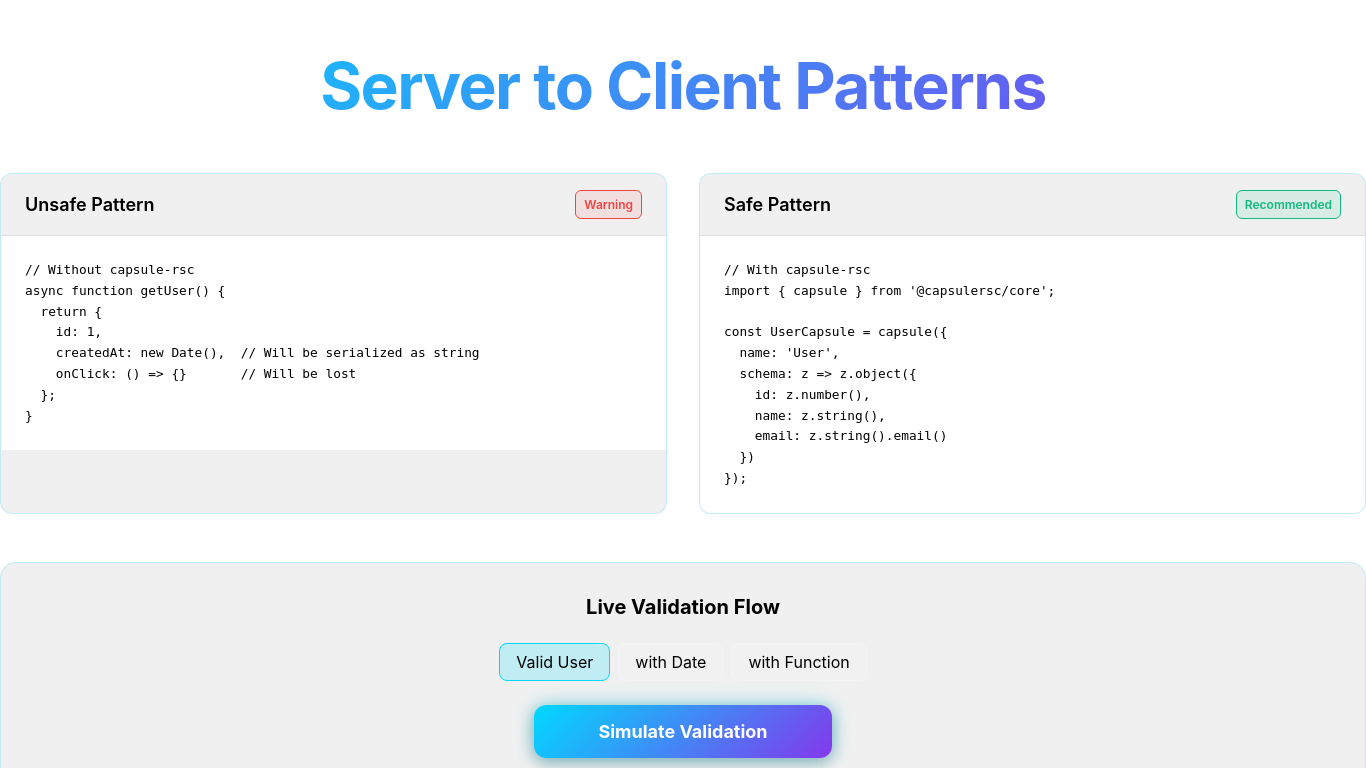
Test: ServerClientDemo › interactive validation flow › should show SerializationError when Function data is validated
Click the button "with Function".
click(799, 662)  # box [731,643,867,681]
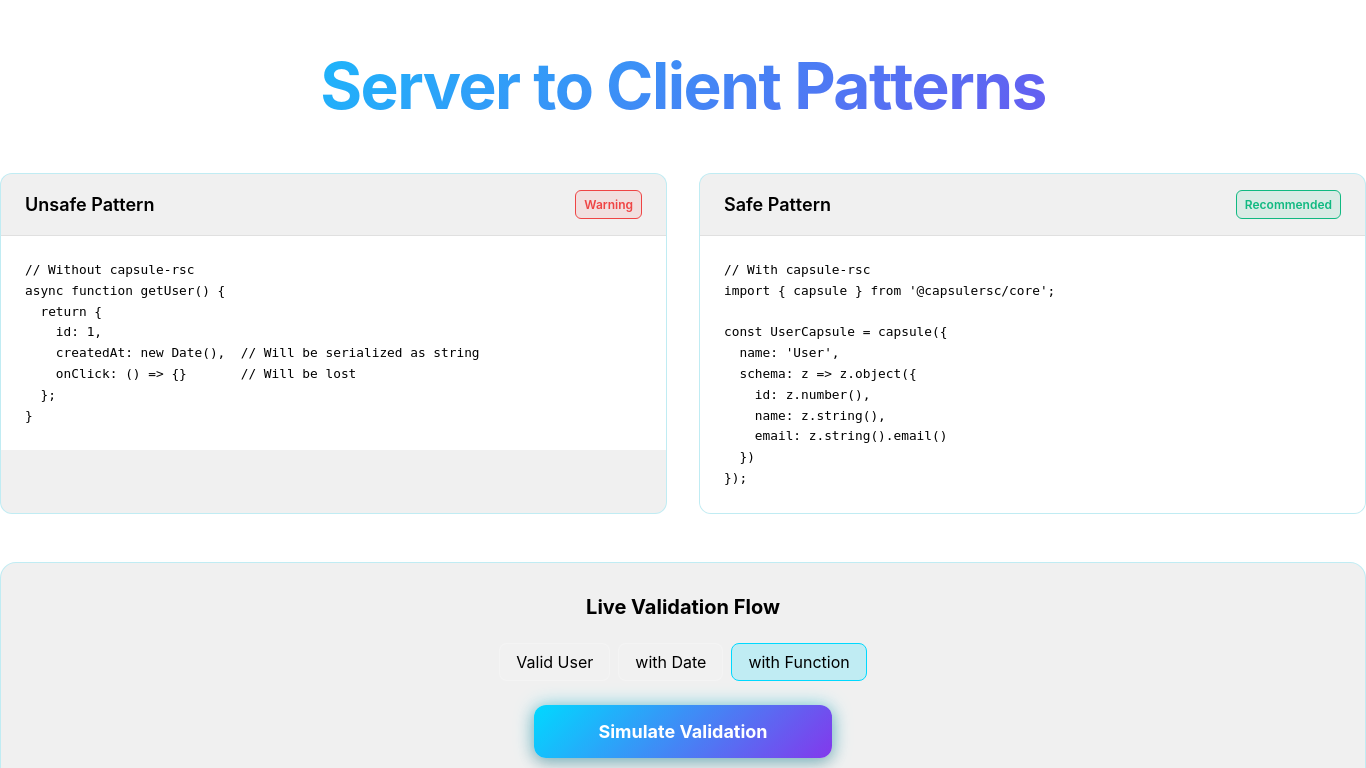
Click the button "Simulate Validation".
click(683, 731)  # box [534,705,832,758]
(page scrolled)
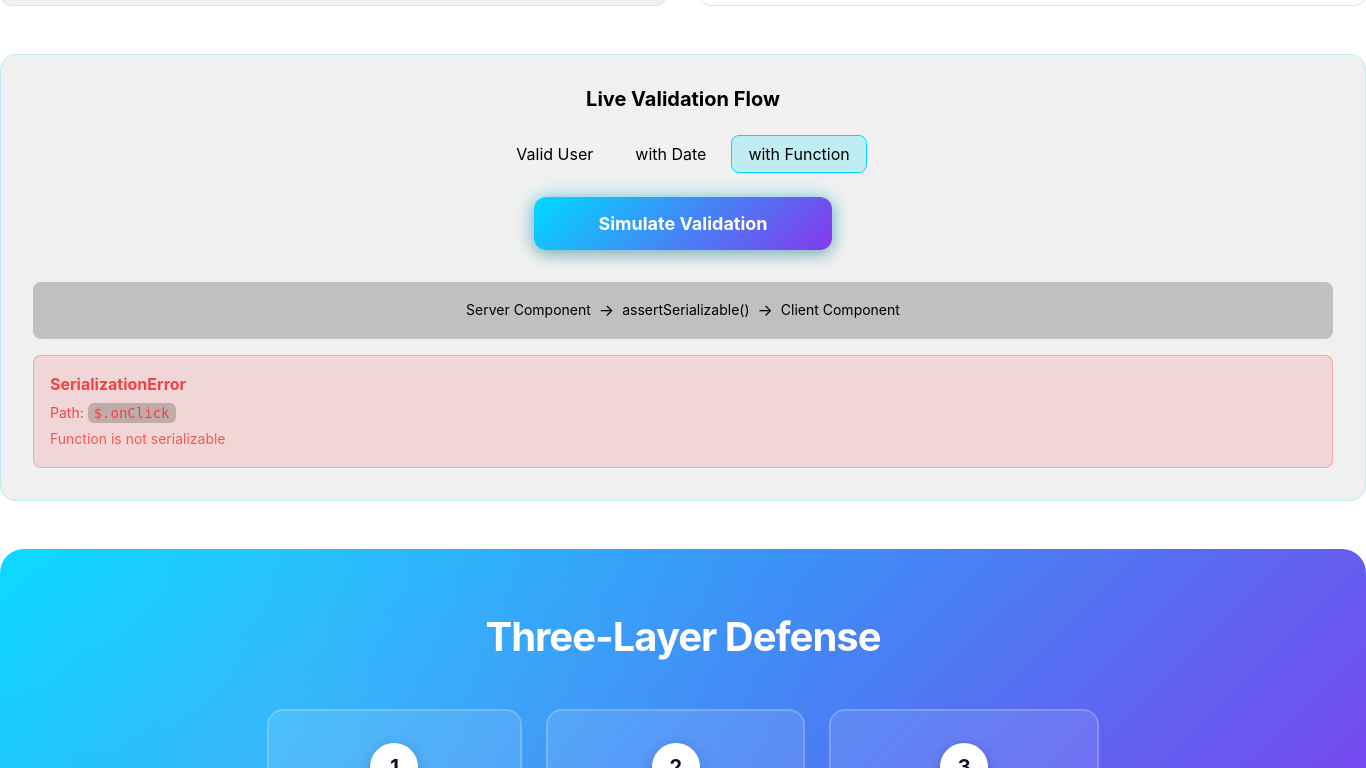
Expected: the text "SerializationError" is shown, [50,374,186,394]
